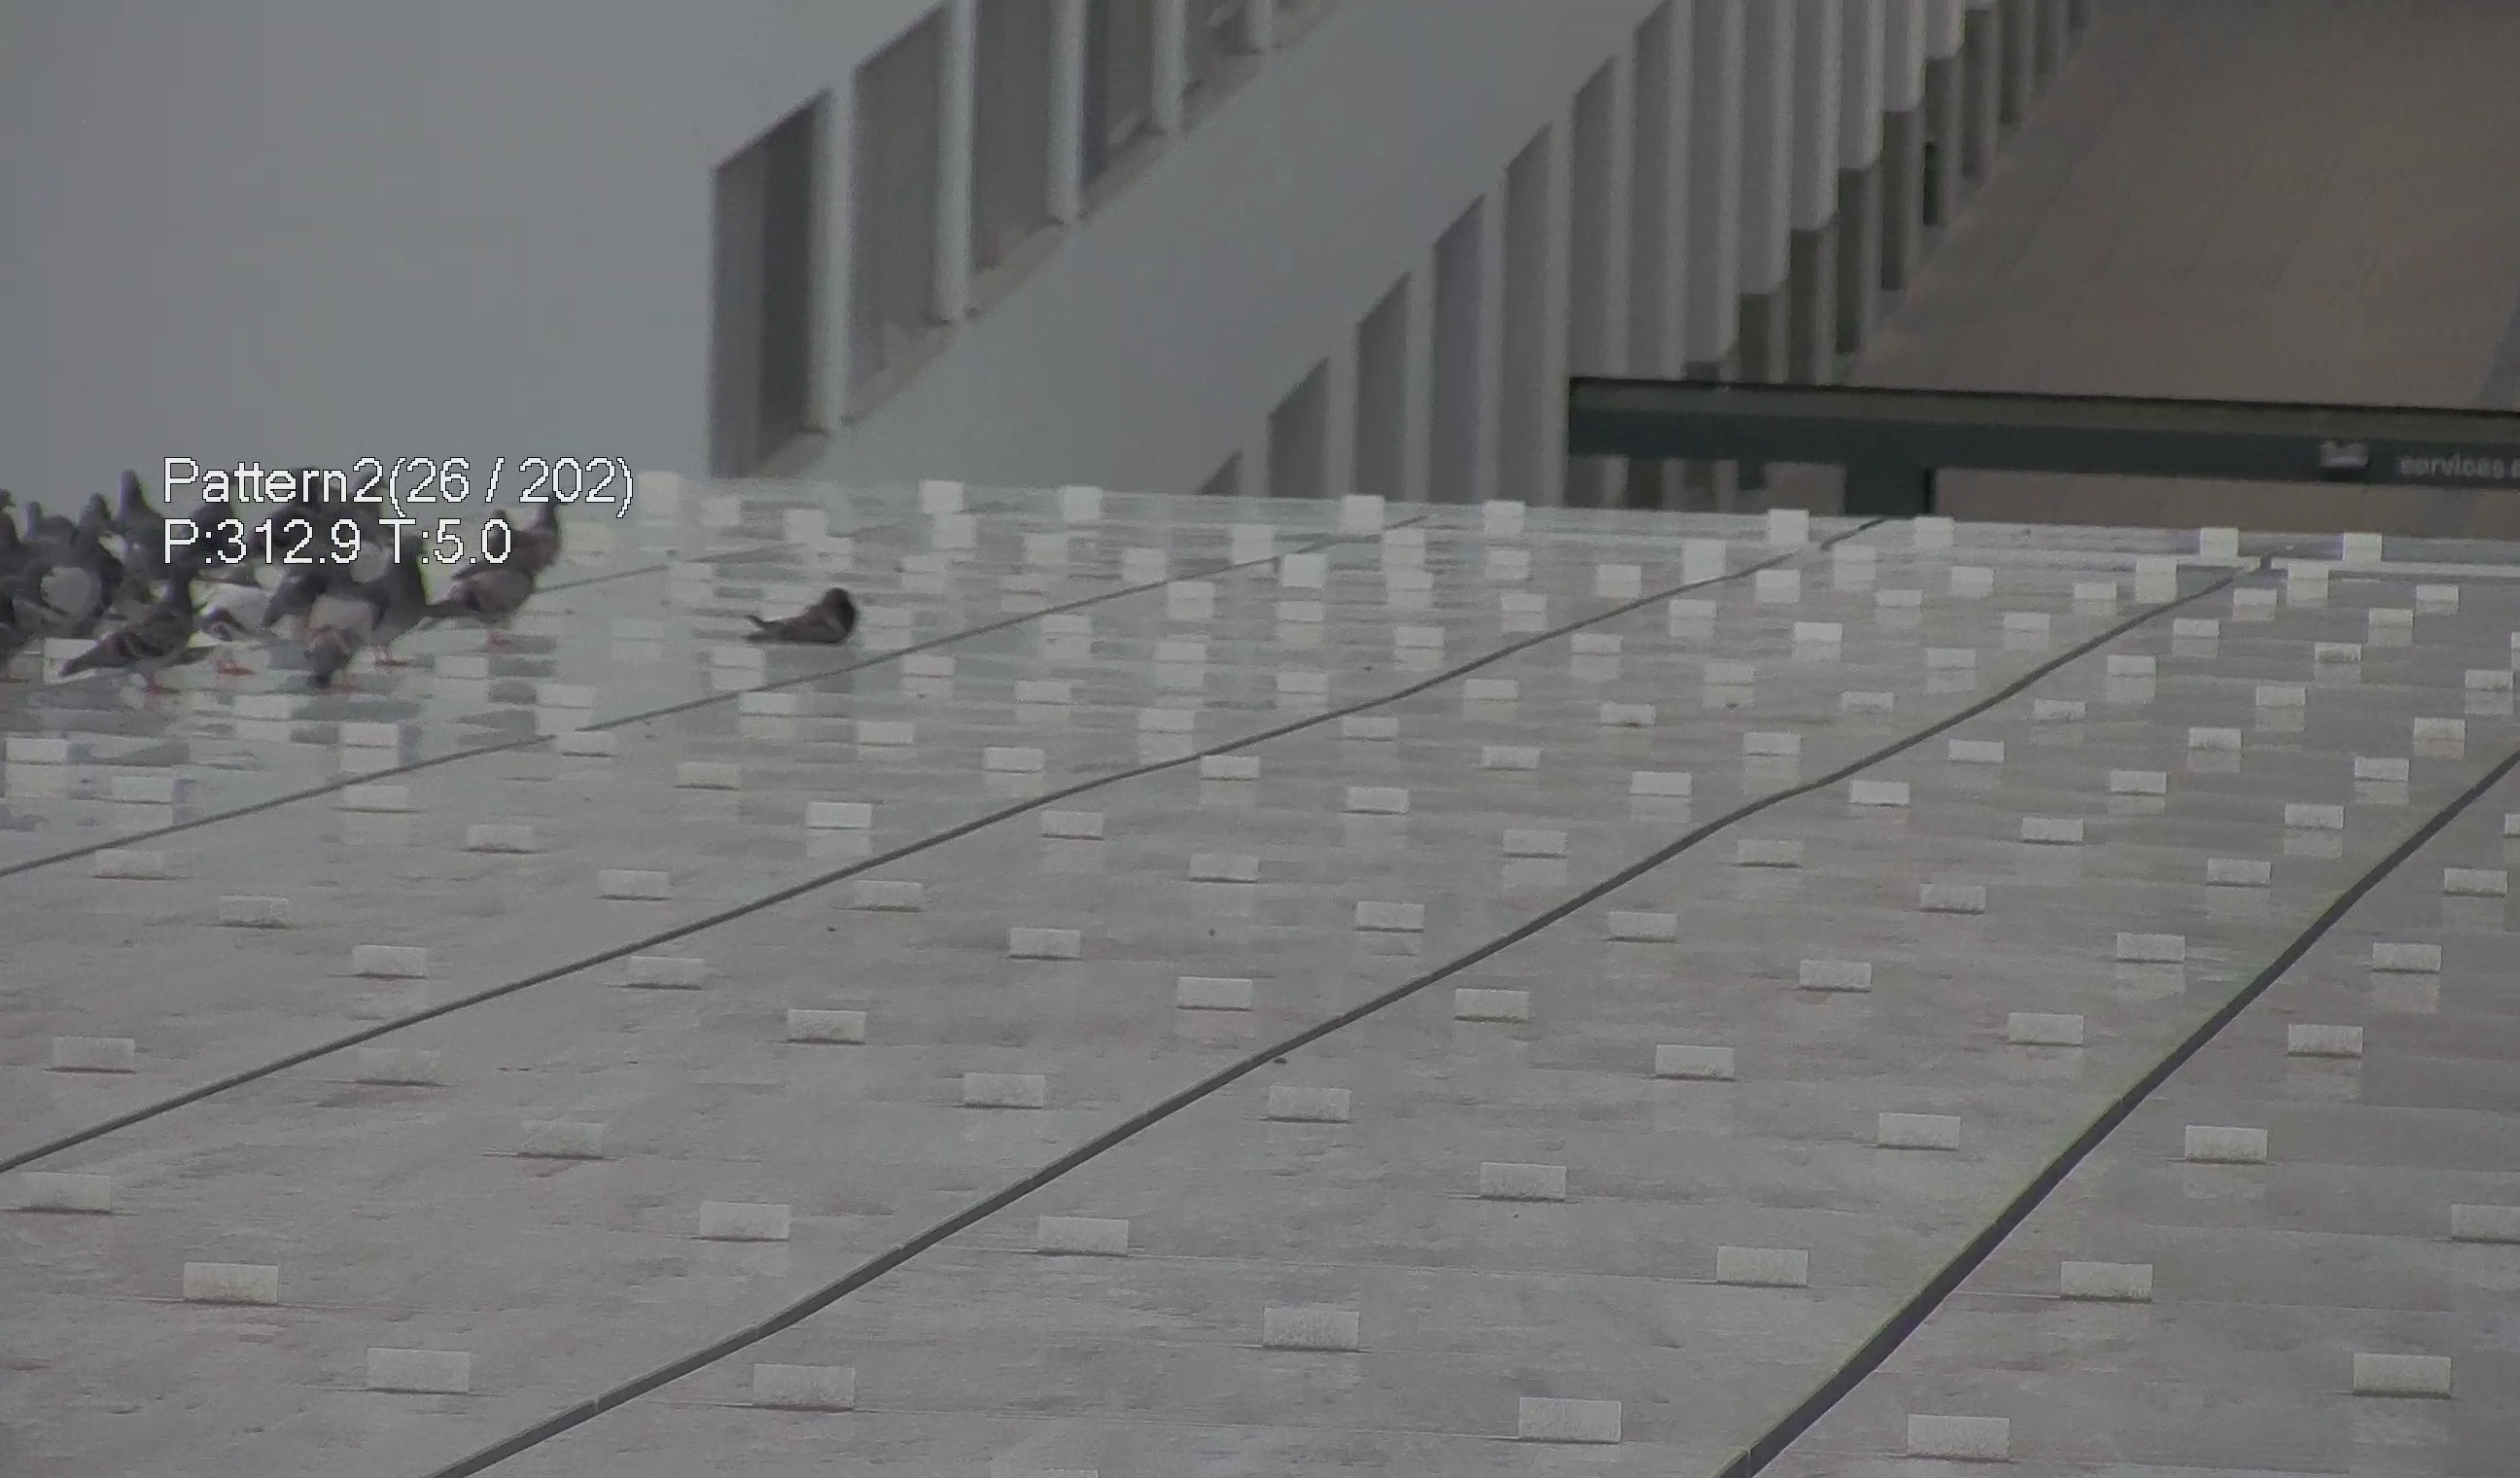Pigeon: (397, 494, 556, 635), (56, 561, 200, 700), (285, 574, 378, 699), (732, 577, 865, 658), (109, 461, 178, 538)
